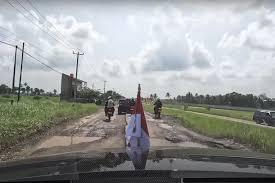Pothole: (141, 131, 235, 156), (35, 127, 112, 147), (141, 111, 186, 131)
